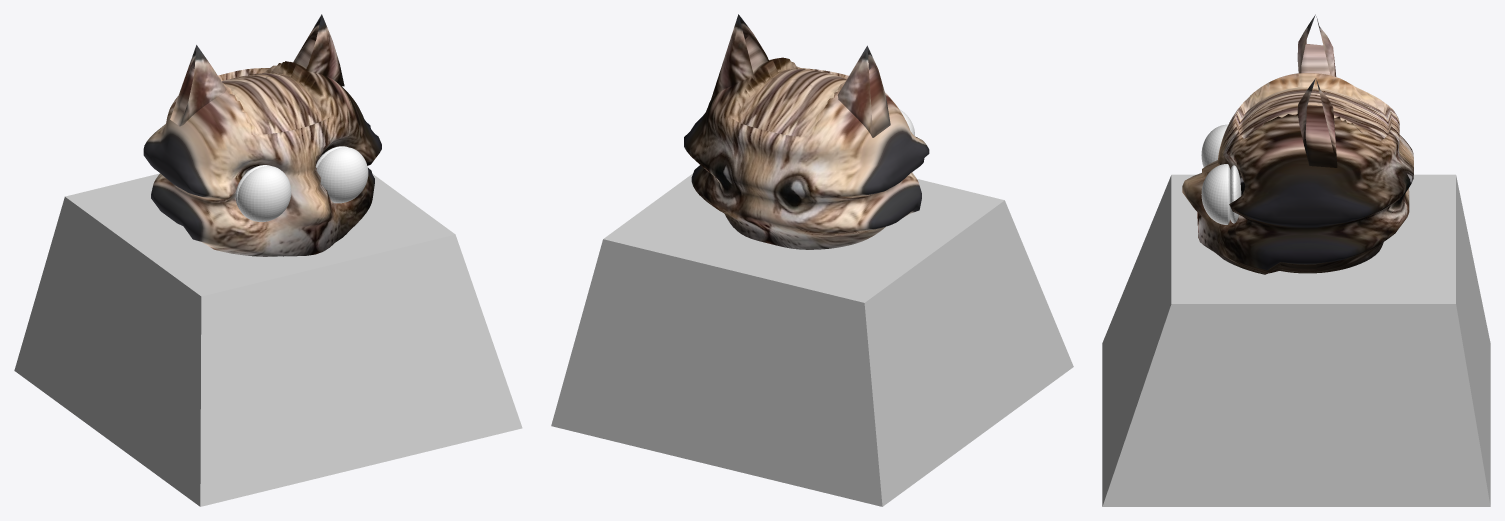
The model's file is artisan_cat_keycap.glb.
The picture shows the model from 3 angles, left to right: view 1: azimuth 30°, elevation 25°; view 2: azimuth 150°, elevation 25°; view 3: azimuth 270°, elevation 25°; orthographic projection. The views are drawn at different scales.
Visible parts, largest first — view 1: KeycapBase, Cat_Head_Master, Eye_Cornea_L, Eye_Cornea_R, Cat_Ear_L, Cat_Ear_R; view 2: KeycapBase, Cat_Head_Master, Cat_Ear_L, Cat_Ear_R; view 3: KeycapBase, Cat_Head_Master, Cat_Ear_R, Eye_Cornea_R, Cat_Ear_L, Eye_Cornea_L, Eye_Iris_R.
Boxes of the visible parts, bbox=[...] form: KeycapBase: bbox=[14, 173, 522, 506]; Cat_Head_Master: bbox=[143, 61, 381, 256]; Eye_Cornea_L: bbox=[237, 166, 291, 221]; Eye_Cornea_R: bbox=[316, 147, 368, 203]; Cat_Ear_L: bbox=[170, 45, 226, 126]; Cat_Ear_R: bbox=[293, 14, 344, 86]; KeycapBase: bbox=[551, 173, 1073, 506]; Cat_Head_Master: bbox=[684, 57, 929, 249]; Cat_Ear_L: bbox=[837, 45, 890, 137]; Cat_Ear_R: bbox=[711, 14, 768, 98]; KeycapBase: bbox=[1102, 174, 1490, 506]; Cat_Head_Master: bbox=[1182, 73, 1413, 274]; Cat_Ear_R: bbox=[1297, 78, 1337, 167]; Eye_Cornea_R: bbox=[1201, 164, 1230, 224]; Cat_Ear_L: bbox=[1297, 14, 1336, 76]; Eye_Cornea_L: bbox=[1201, 124, 1227, 167]; Eye_Iris_R: bbox=[1230, 165, 1241, 223].
Size of the model in its own units: 18 by 19.4 by 18.
3 materials, 1 textured.
